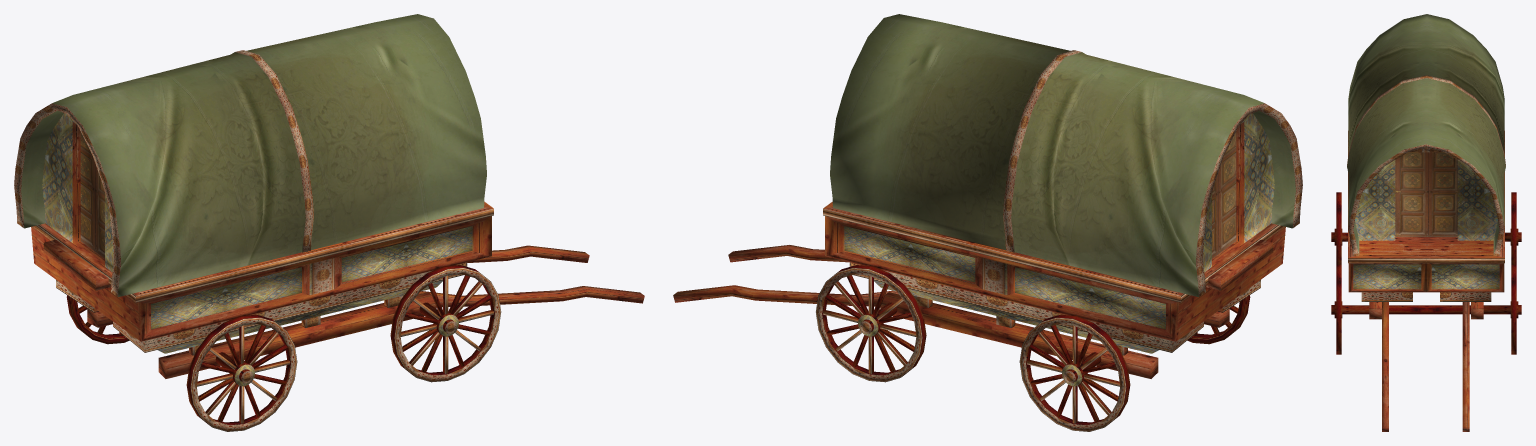
Rendered from Caravan.dae.
3 views of the same model, side by side, from view 1: azimuth 30°, elevation 25°; view 2: azimuth 150°, elevation 25°; view 3: azimuth 270°, elevation 25° (orthographic). The views are drawn at different scales.
Parts seen in each view (by area): view 1: meshU3D; view 2: meshU3D; view 3: meshU3D.
Part boxes in pixels (left/top/right/bottom): meshU3D: left=14, top=14, right=644, bottom=431; meshU3D: left=673, top=14, right=1302, bottom=431; meshU3D: left=1331, top=14, right=1521, bottom=431.
Size of the model in its own units: 307 by 168 by 127.
